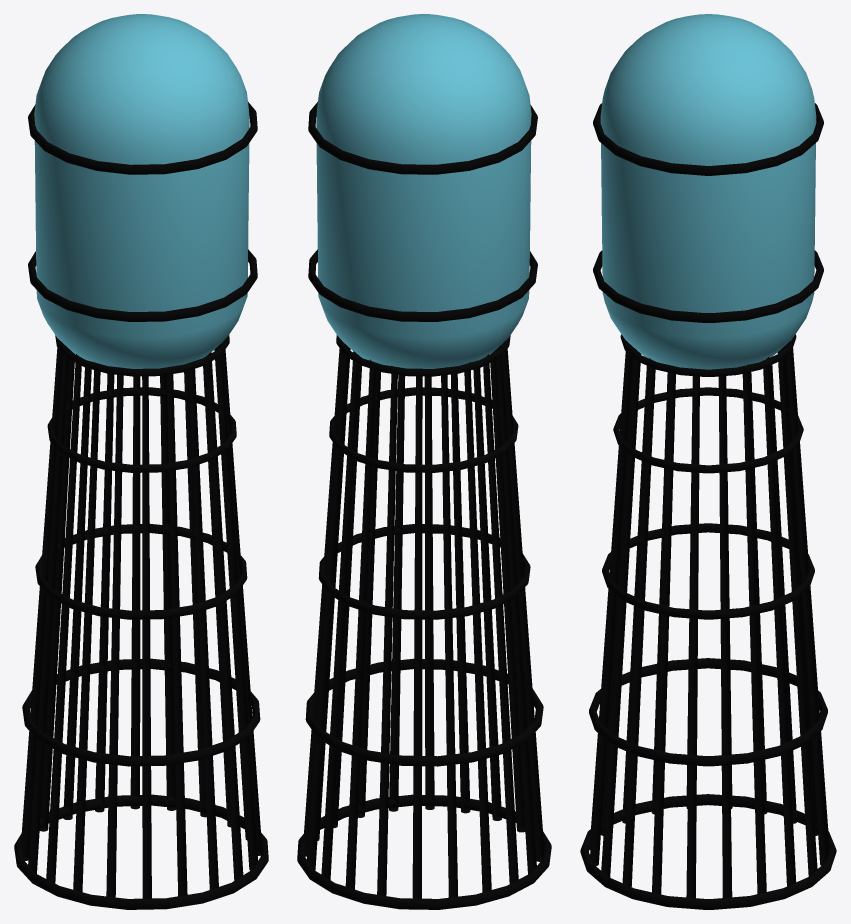
Rendered from water_tank.fbx.
3 views of the same model, side by side, from view 1: azimuth 30°, elevation 25°; view 2: azimuth 150°, elevation 25°; view 3: azimuth 270°, elevation 25° (orthographic).
Visible parts, largest first — view 1: water tank; view 2: water tank; view 3: water tank.
Boxes of the visible parts, x1,y1,x2,y2 form: water tank: (14,14,268,909); water tank: (297,14,551,909); water tank: (580,14,836,909).
Size of the model in its own units: 10.35 by 37.16 by 10.35.
